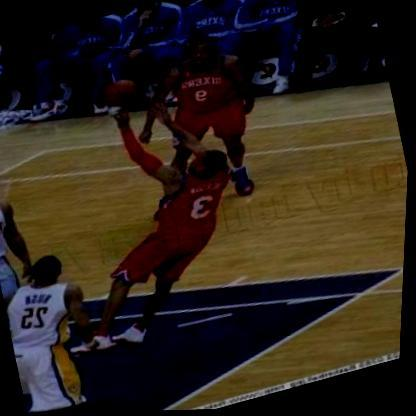basketball: (96, 71, 148, 114)
